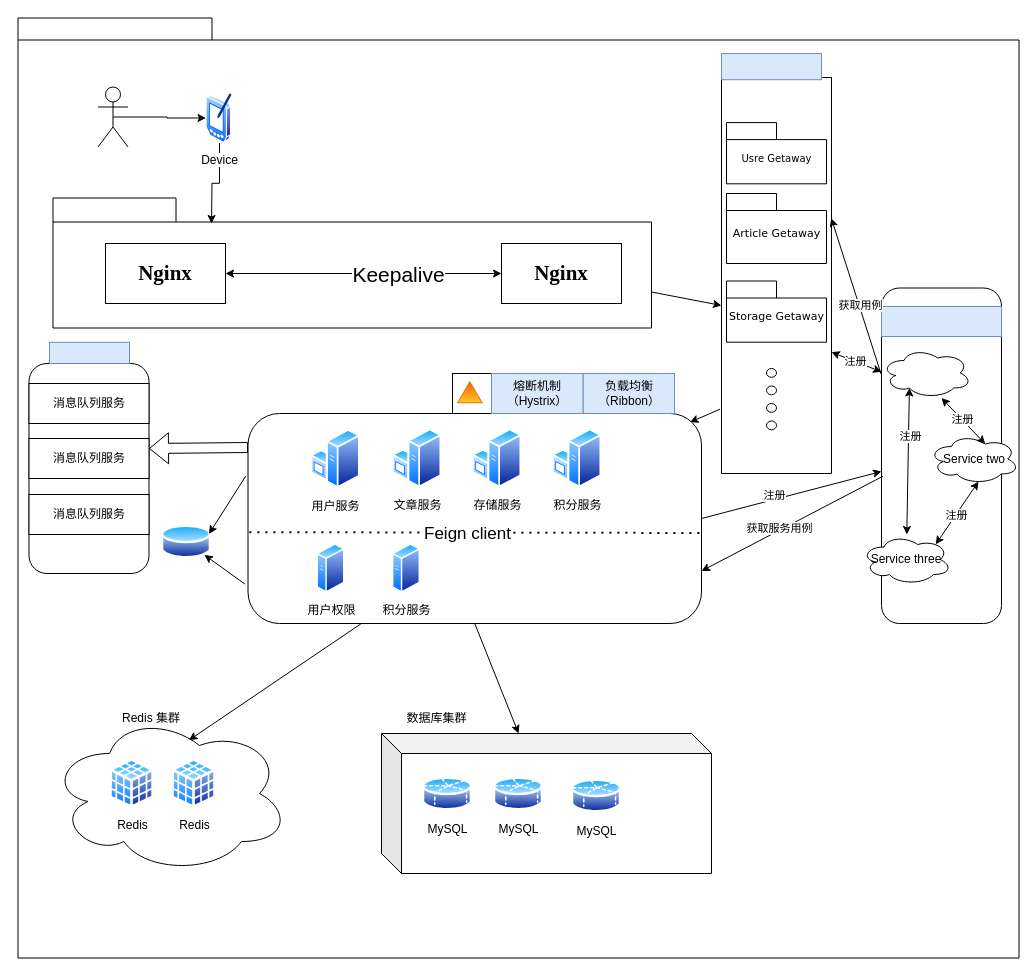
Some shapes in this 1036 by 975 pixel diagram are drawn without their labels. The centre of each missing label's shape, as x and y in pixels:
minio: the point at 186,541
Service one: the point at 926,372
User: the point at 112,116
注册中心集群: the point at 941,321
消息队列结群: the point at 89,352
路由网关集群: the point at 771,66
